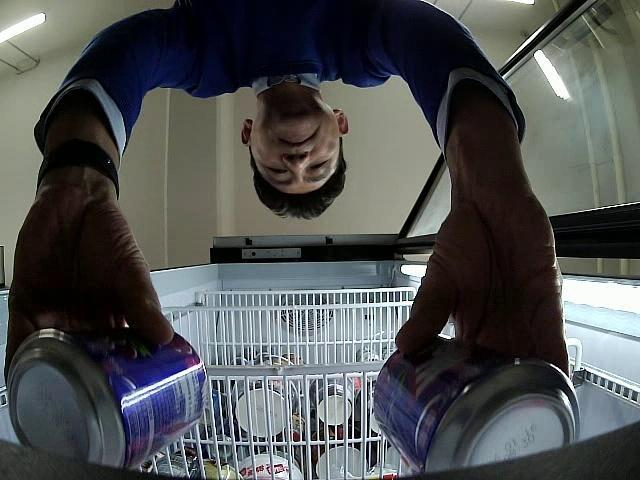14_welchsGrape: (372, 333, 579, 473), (8, 328, 209, 469)
